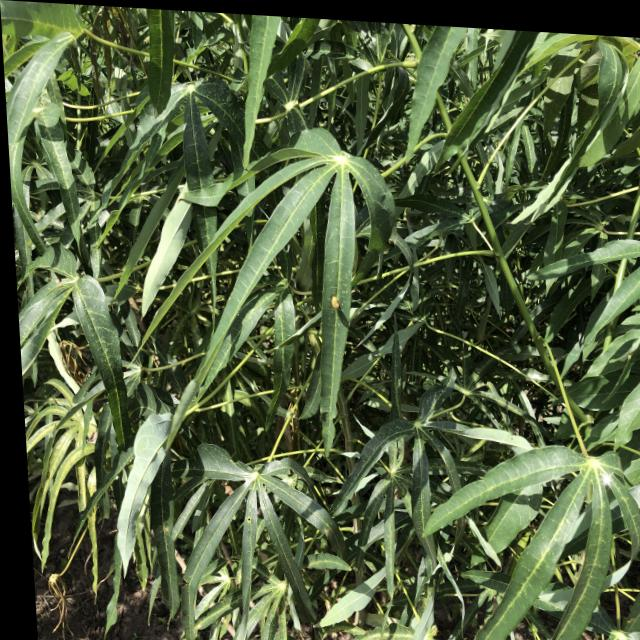Mosca: (314, 292, 350, 319)
